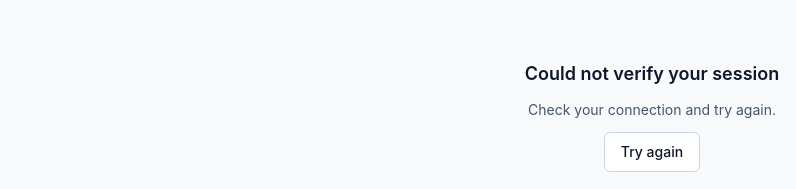
it: RequireRole › shows retry for temporary API errors without clearing the session
Check: the message shows "Could not verify your session", box [525,63,779,84]
Click the button "Try again": {"x": 652, "y": 152} [604,132,700,172]
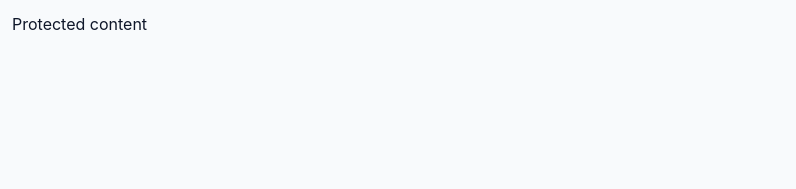
Check: the text "Protected content" is shown, box [12,14,147,34]
